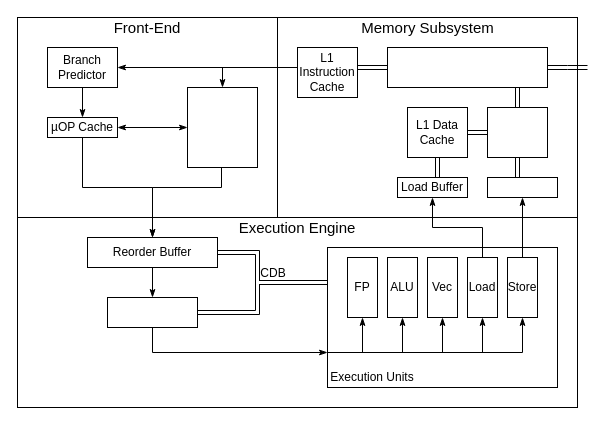
The diagram is 605 pixels wide and 425 high, and some of its shapes have lost their labels. The shapes that lost their labels are listed below. From the top down, each one's centre as x and y in pixels, then its label:
At [467,67]: "L2 Cache".
At [222,127]: "Decoder".
At [517,132]: "Line-Fill Buffer".
At [522,187]: "Store Buffer".
At [152,312]: "Scheduler".
